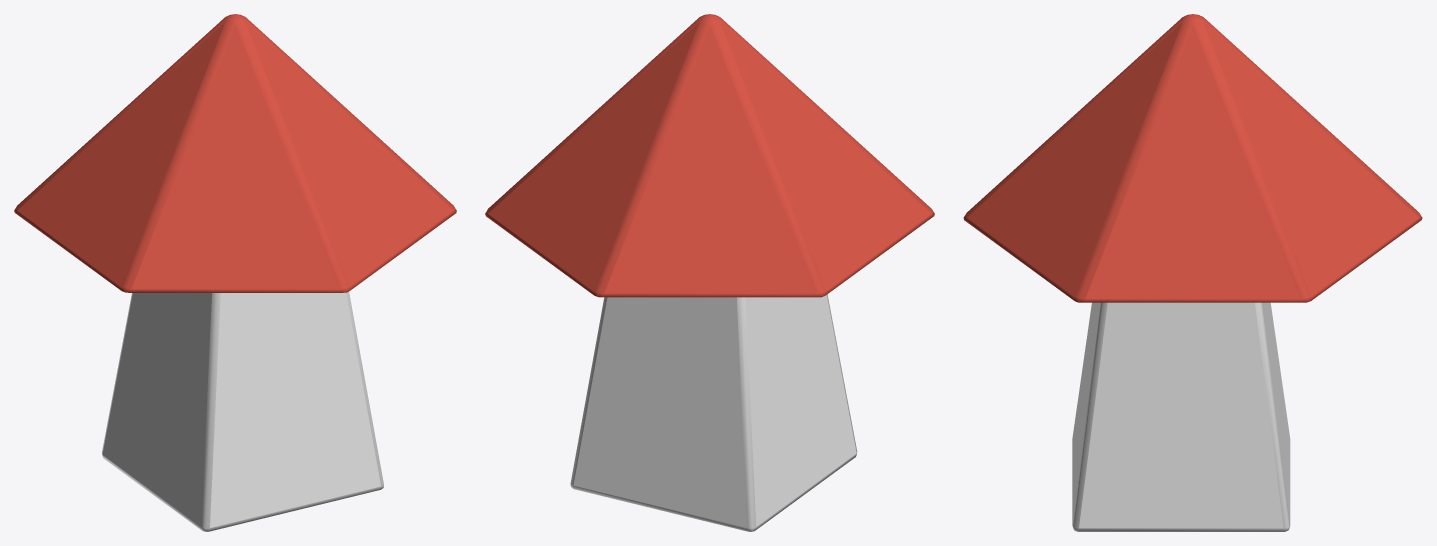
Rendered from Mushroom_Red_01.obj.
The picture shows the model from 3 angles, left to right: view 1: azimuth 30°, elevation 25°; view 2: azimuth 150°, elevation 25°; view 3: azimuth 270°, elevation 25°; orthographic projection. The views are drawn at different scales.
Parts seen in each view (by area): view 1: Mushroom_Red_01; view 2: Mushroom_Red_01; view 3: Mushroom_Red_01.
Boxes of the visible parts, left/top/right/bottom form: Mushroom_Red_01: left=14, top=14, right=456, bottom=531; Mushroom_Red_01: left=485, top=14, right=934, bottom=531; Mushroom_Red_01: left=963, top=14, right=1422, bottom=531.
Bounding box in the file's own units: 0.4279 × 0.5587 × 0.4912.
